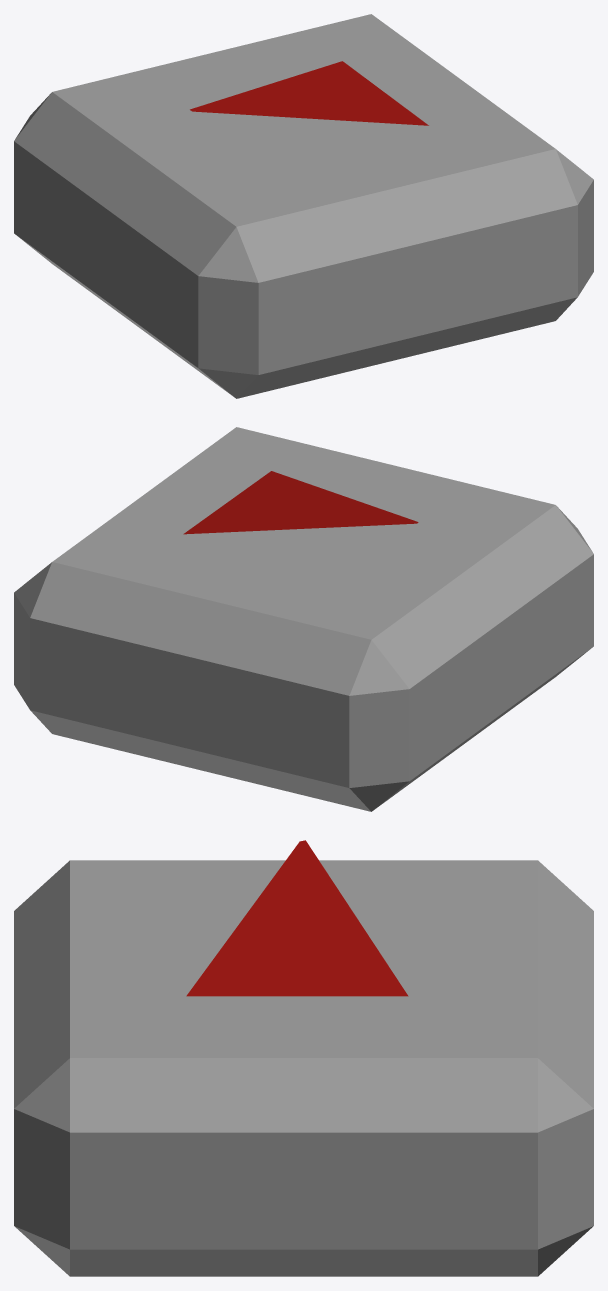
File: key.gltf
3 views of the same model, one above another, from view 1: azimuth 30°, elevation 25°; view 2: azimuth 150°, elevation 25°; view 3: azimuth 270°, elevation 25° (orthographic). The views are drawn at different scales.
Visible parts, largest first — view 1: Plane; view 2: Plane; view 3: Plane.
Boxes of the visible parts, box(x1,y1,x2,y2) form: Plane: box(14, 14, 593, 398); Plane: box(14, 427, 593, 811); Plane: box(14, 840, 593, 1276).
Size of the model in its own units: 2 by 1.02 by 2.
